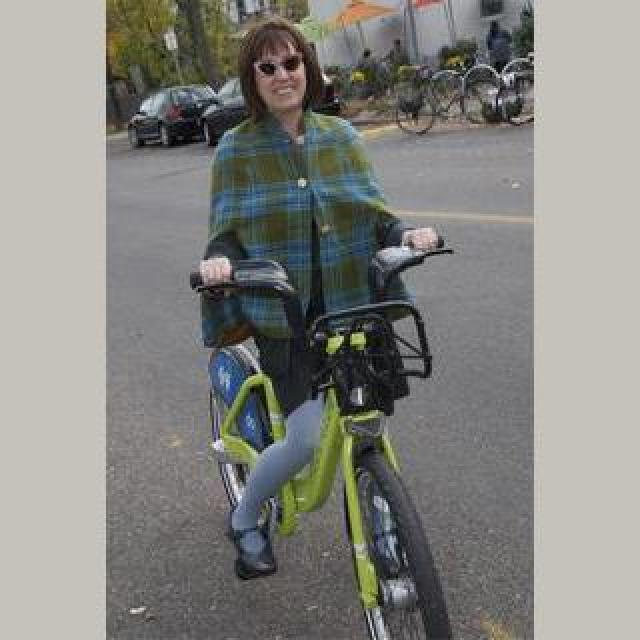Bus-Bike: (126, 84, 226, 148)
MC-Bike: (184, 16, 452, 574), (486, 22, 512, 70)
Person: (190, 226, 456, 630)
